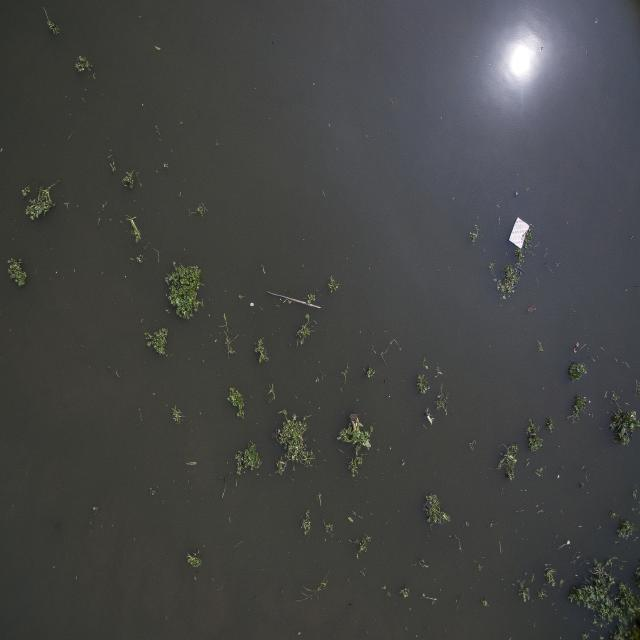plastic: (506, 213, 542, 262)
